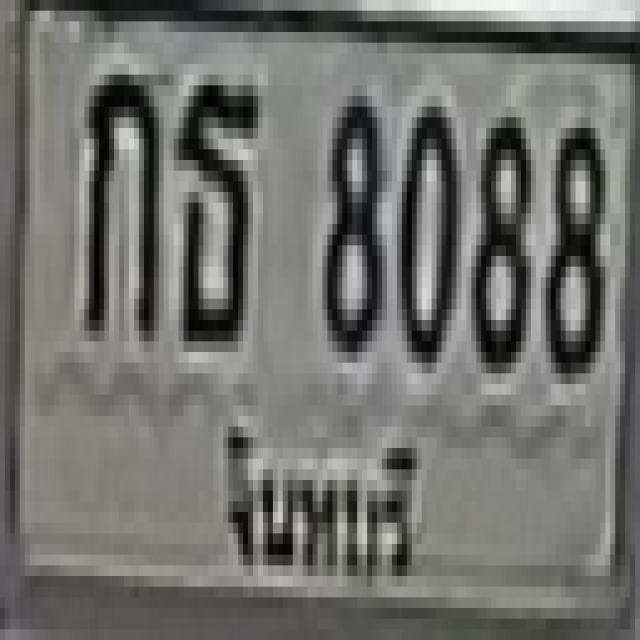0: (397, 96, 456, 352)
8: (317, 86, 383, 360), (466, 106, 526, 362), (541, 112, 600, 368)
A01: (79, 64, 159, 341)
A24: (174, 75, 258, 352)
CTI: (215, 401, 428, 601)
